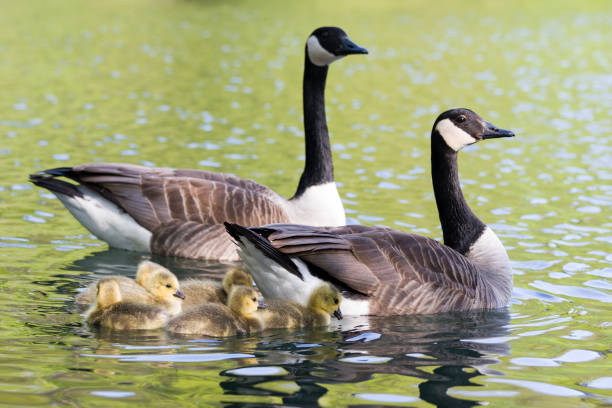goose: (28, 24, 372, 260), (229, 104, 520, 329)
